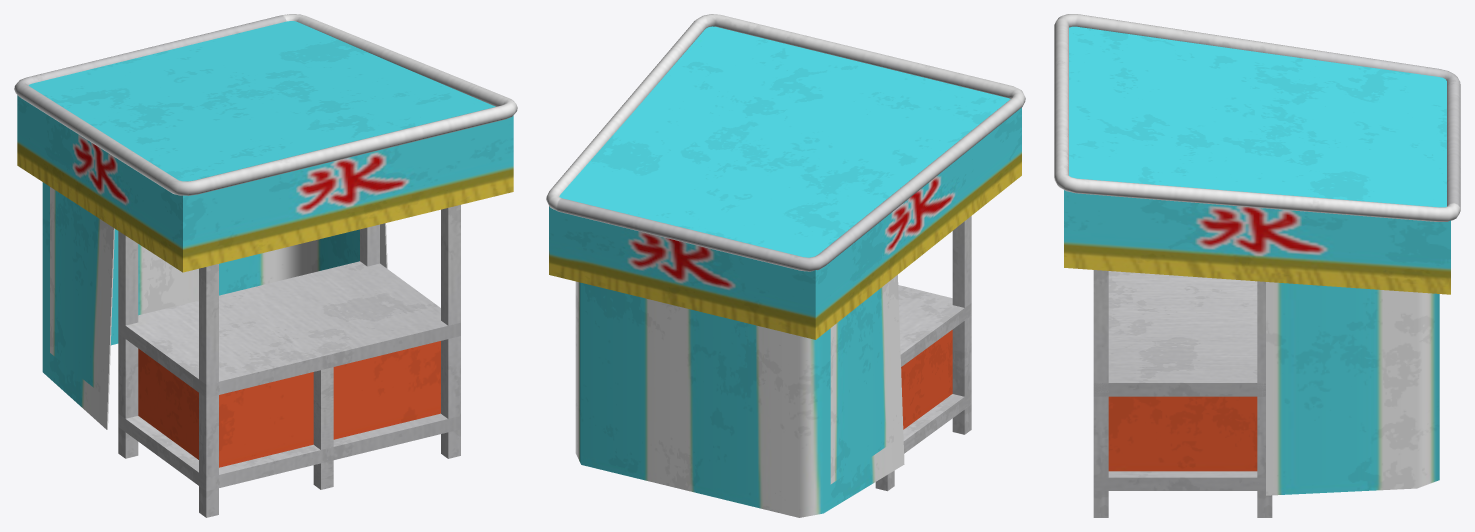
The model's file is SM_Yatai_02.fbx.
3 views of the same model, side by side, from view 1: azimuth 30°, elevation 25°; view 2: azimuth 150°, elevation 25°; view 3: azimuth 270°, elevation 25° (orthographic). The views are drawn at different scales.
Parts seen in each view (by area): view 1: SM_Yatai_02; view 2: SM_Yatai_02; view 3: SM_Yatai_02.
Part boxes in pixels (left/top/right/bottom): SM_Yatai_02: left=14, top=14, right=517, bottom=517; SM_Yatai_02: left=546, top=14, right=1025, bottom=517; SM_Yatai_02: left=1054, top=14, right=1460, bottom=517.
Size of the model in its own units: 27.15 by 26.65 by 27.28.
